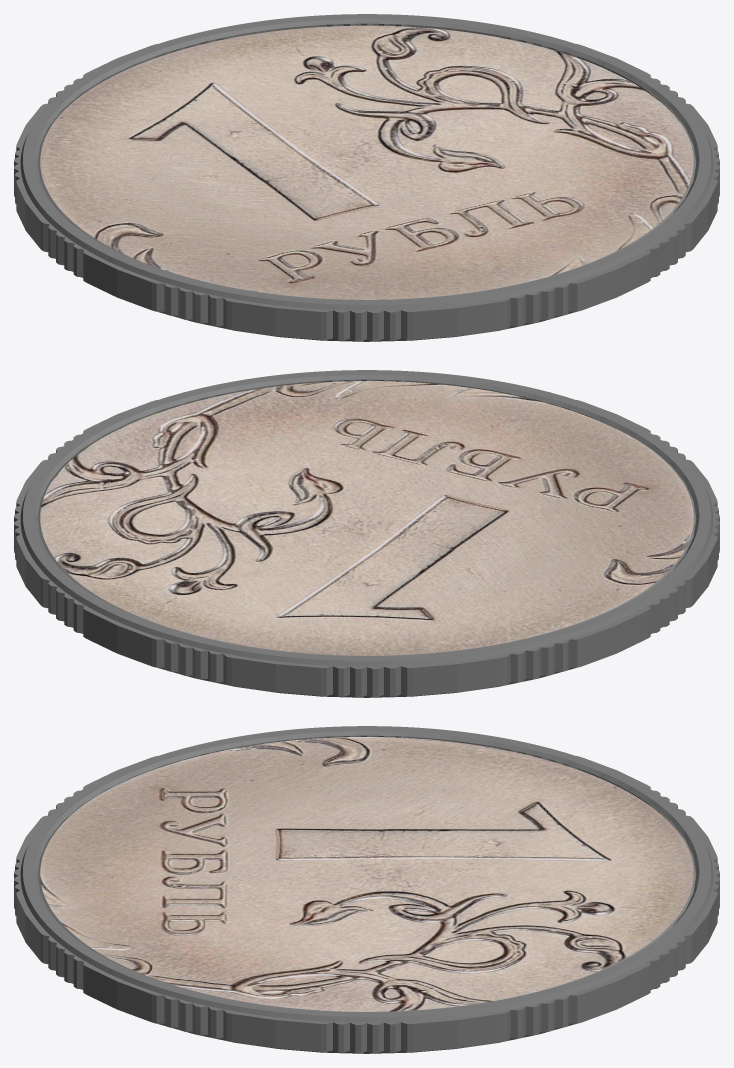
Rendered from russian_coin.glb.
3 renders of one model, top to bottom at view 1: azimuth 30°, elevation 25°; view 2: azimuth 150°, elevation 25°; view 3: azimuth 270°, elevation 25°, orthographic.
Size of the model in its own units: 4.42 by 0.2536 by 4.42.
2 materials, 1 textured.
